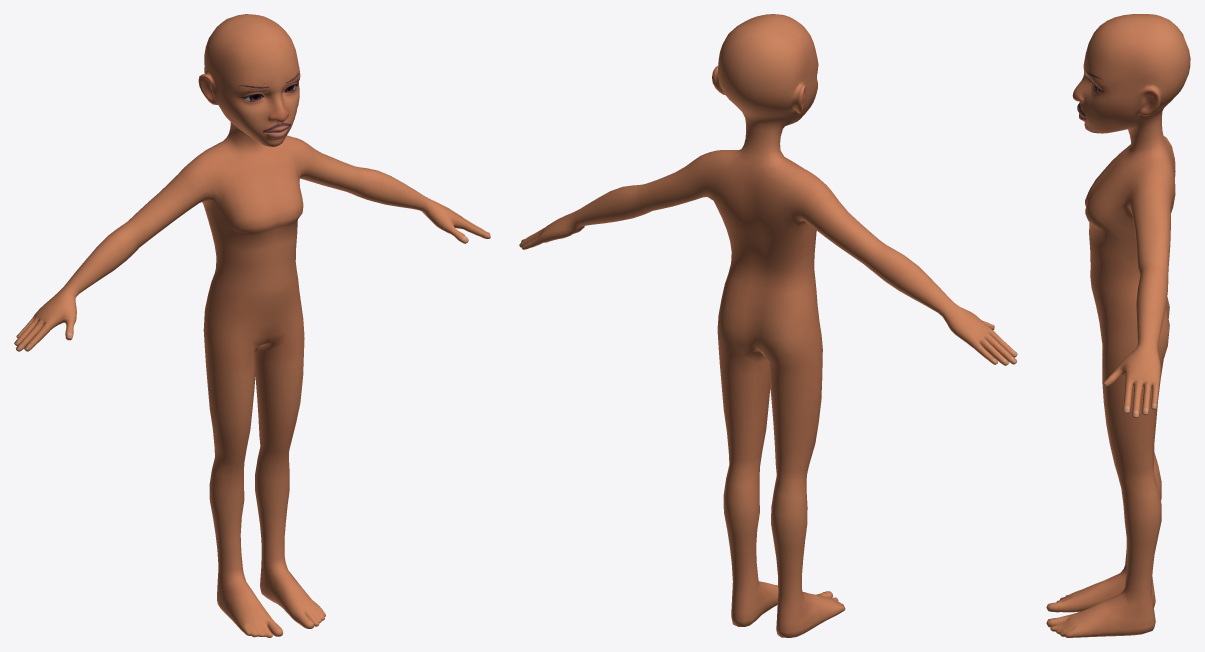
The model's file is frame_0064.glb.
3 renders of one model, left to right at view 1: azimuth 30°, elevation 25°; view 2: azimuth 150°, elevation 25°; view 3: azimuth 270°, elevation 25°, orthographic. The views are drawn at different scales.
Visible parts, largest first — view 1: frame_0064_head_geo; view 2: frame_0064_head_geo; view 3: frame_0064_head_geo.
Part boxes in pixels (x1,y1,x2,y2): frame_0064_head_geo: [14, 14, 490, 637]; frame_0064_head_geo: [519, 14, 1017, 637]; frame_0064_head_geo: [1046, 14, 1190, 637].
Bounding box in the file's own units: 1.28 × 1.5 × 0.3253.
Materials: 3 (3 with a texture image).
